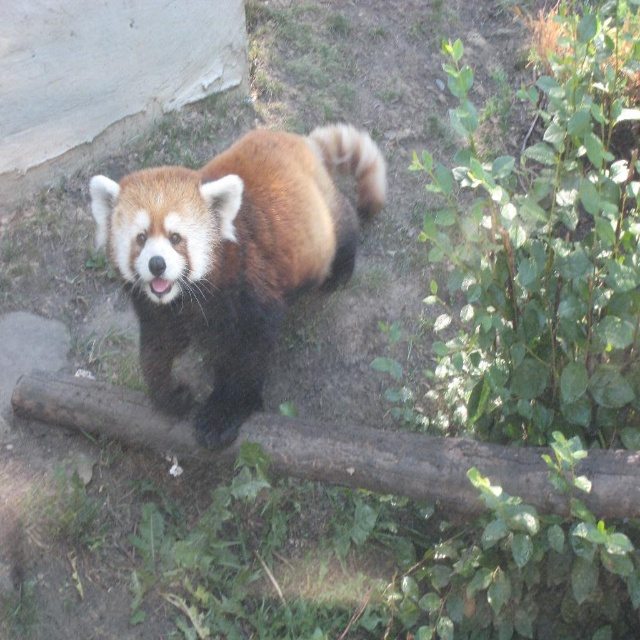Red panda: (89, 123, 385, 452)
